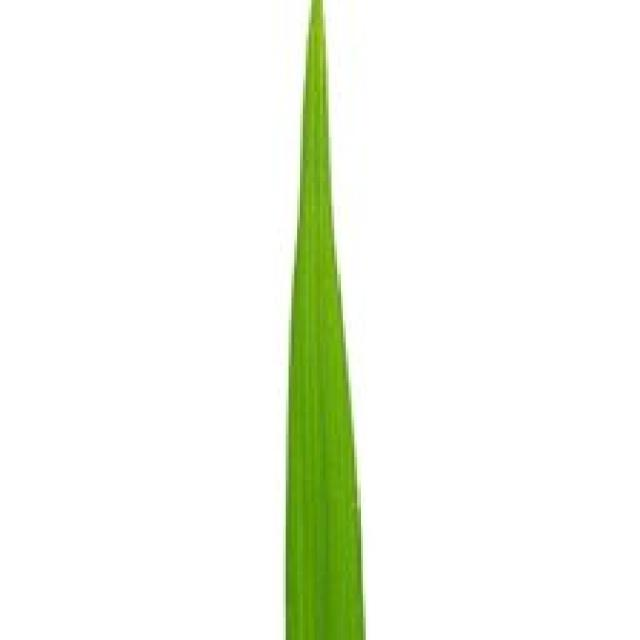Rice___Healthy_Rice_Plant: (285, 0, 366, 637)
